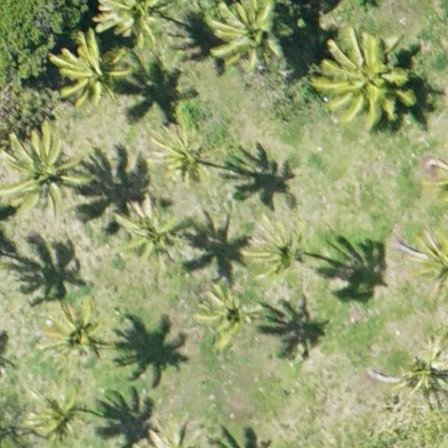palm_tree: (322, 27, 412, 123), (212, 1, 289, 71), (5, 135, 75, 209), (145, 120, 219, 187), (59, 41, 119, 106), (117, 197, 177, 261), (197, 288, 259, 348), (94, 1, 177, 45), (41, 303, 99, 363), (27, 387, 85, 447), (246, 223, 303, 278), (400, 341, 448, 395)
